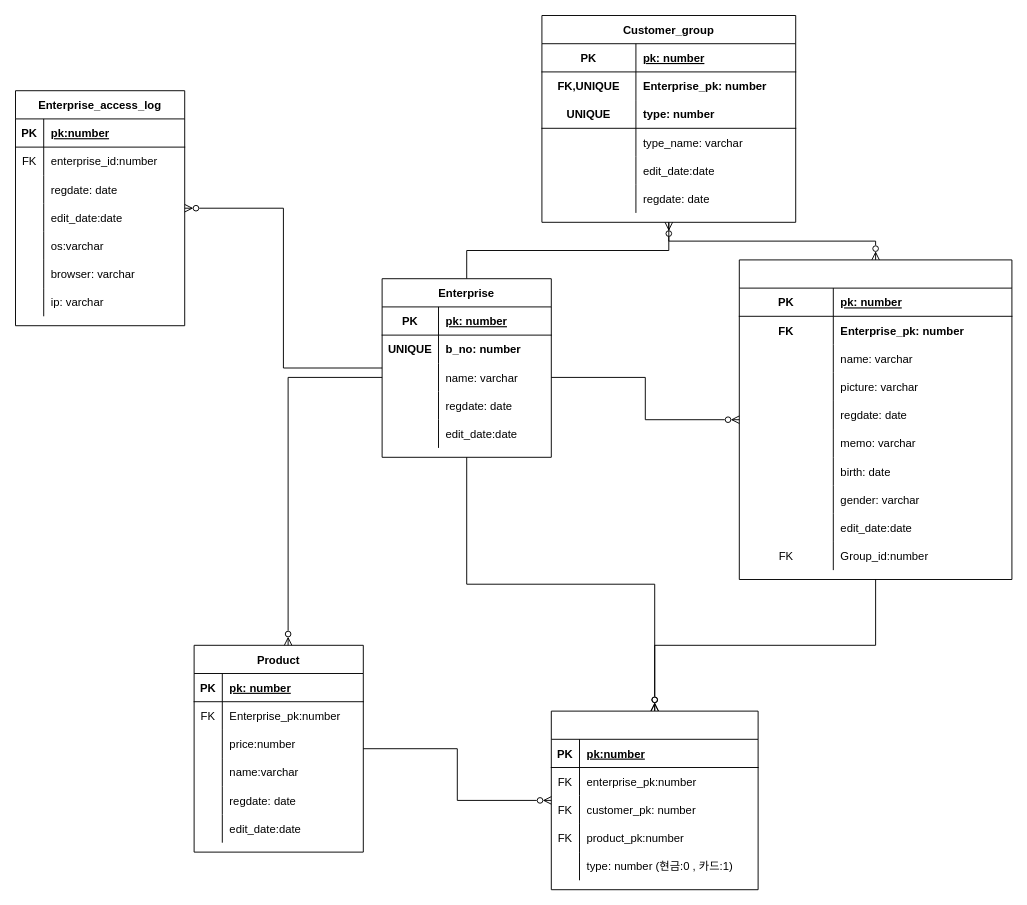
The diagram is 1027 pixels wide and 905 high, and some of its shapes have lost their labels. Here are the shapes that lost their labels. From the top down, the box of each, then its label:
(738, 259, 1012, 580): Customer
(550, 710, 758, 890): Sales_log
